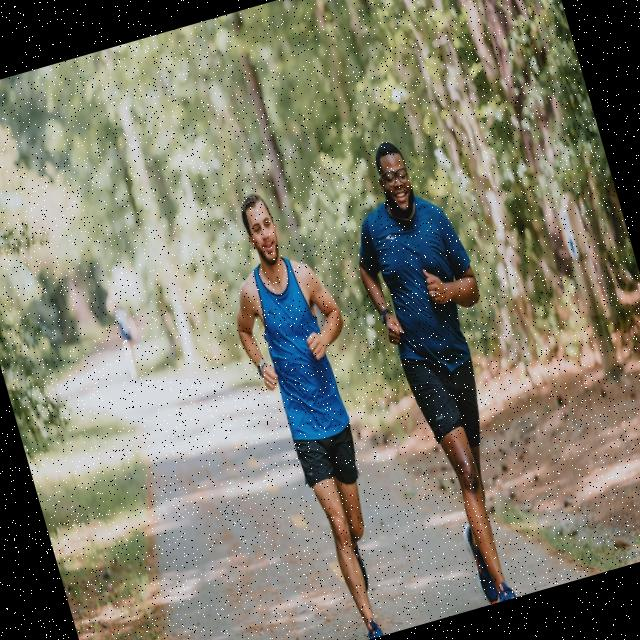Person: (326, 126, 564, 614), (202, 178, 428, 640)
